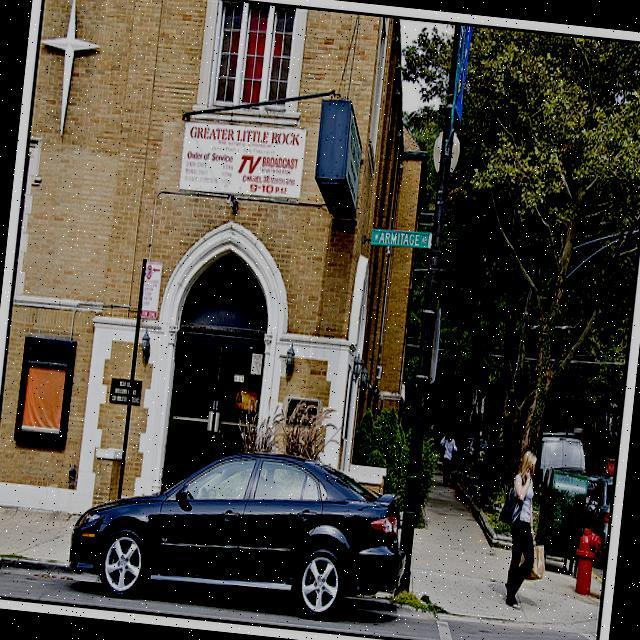fire_hydrant: (570, 528, 604, 598)
